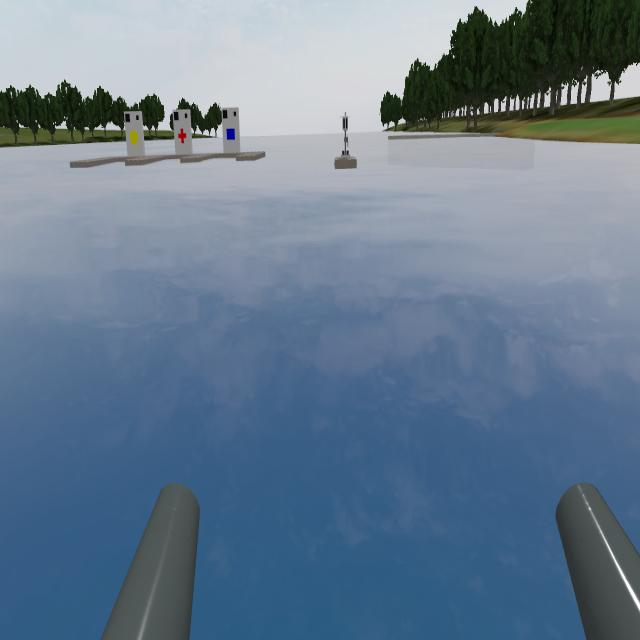black_pole: (339, 108, 351, 152)
